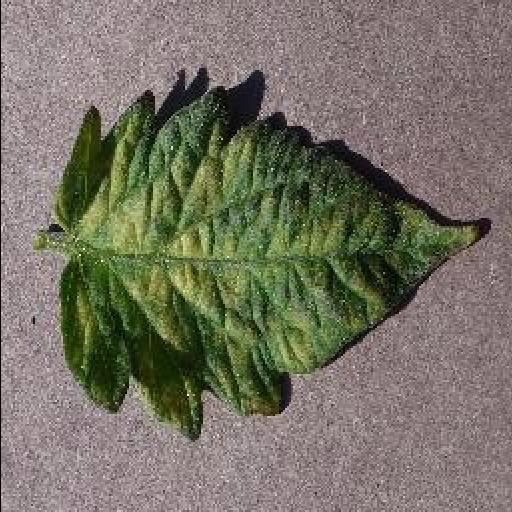disease_tomato: (60, 88, 484, 440)
